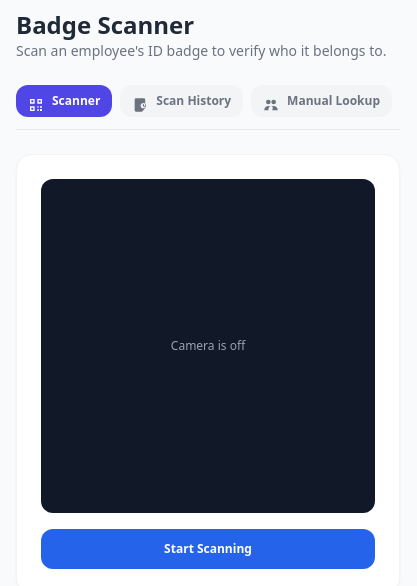
Test case: BadgeScannerView › the Scan History tab shows an empty state before any scan happens
This screenshot has width=417, height=586.
Step 1. Click the tab "Scan History" → (182, 101), box 120,85 -> 243,117
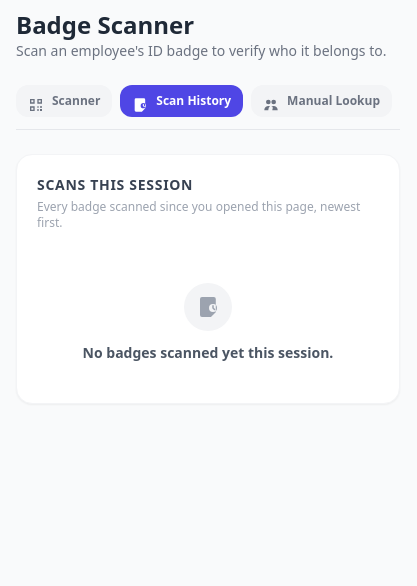
Expected: the text "No badges scanned yet this session." is shown, 83,343 -> 333,363
